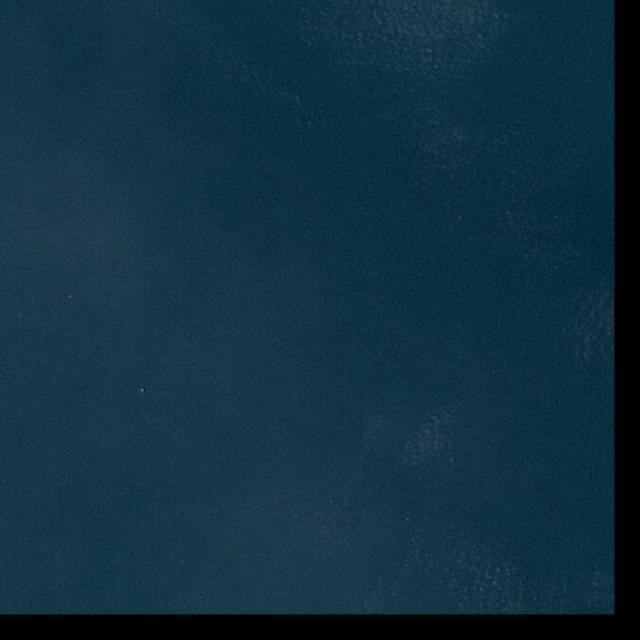ship: (140, 388, 144, 393)
